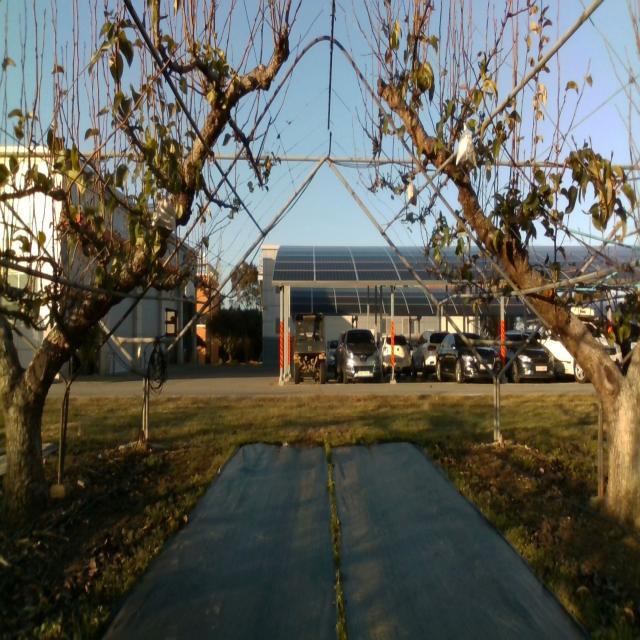pearbags: (456, 121, 477, 167), (153, 195, 176, 230), (184, 274, 196, 298), (408, 176, 418, 204)
